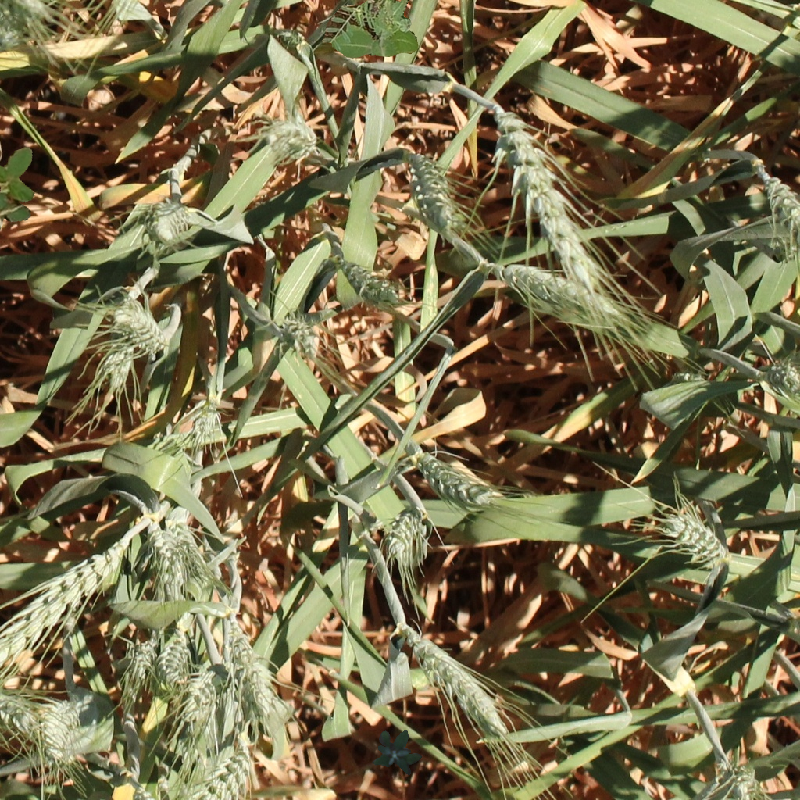spikelet: (490, 102, 602, 290), (1, 540, 132, 668), (399, 625, 508, 742), (496, 259, 629, 328), (220, 615, 280, 718), (407, 446, 501, 510), (402, 148, 464, 234), (657, 506, 734, 571), (178, 745, 254, 800), (331, 254, 403, 309), (150, 515, 202, 590), (110, 296, 169, 357), (37, 695, 83, 764), (258, 112, 320, 162), (382, 507, 430, 568), (179, 663, 222, 727), (143, 196, 196, 245), (764, 175, 799, 248), (97, 335, 138, 394), (1, 682, 44, 738), (273, 311, 321, 358), (158, 623, 193, 684), (186, 397, 227, 449), (759, 355, 800, 403), (122, 634, 159, 685), (719, 759, 763, 800), (1, 1, 50, 36)
weed: (313, 1, 440, 70), (365, 731, 432, 787), (1, 145, 41, 235)
